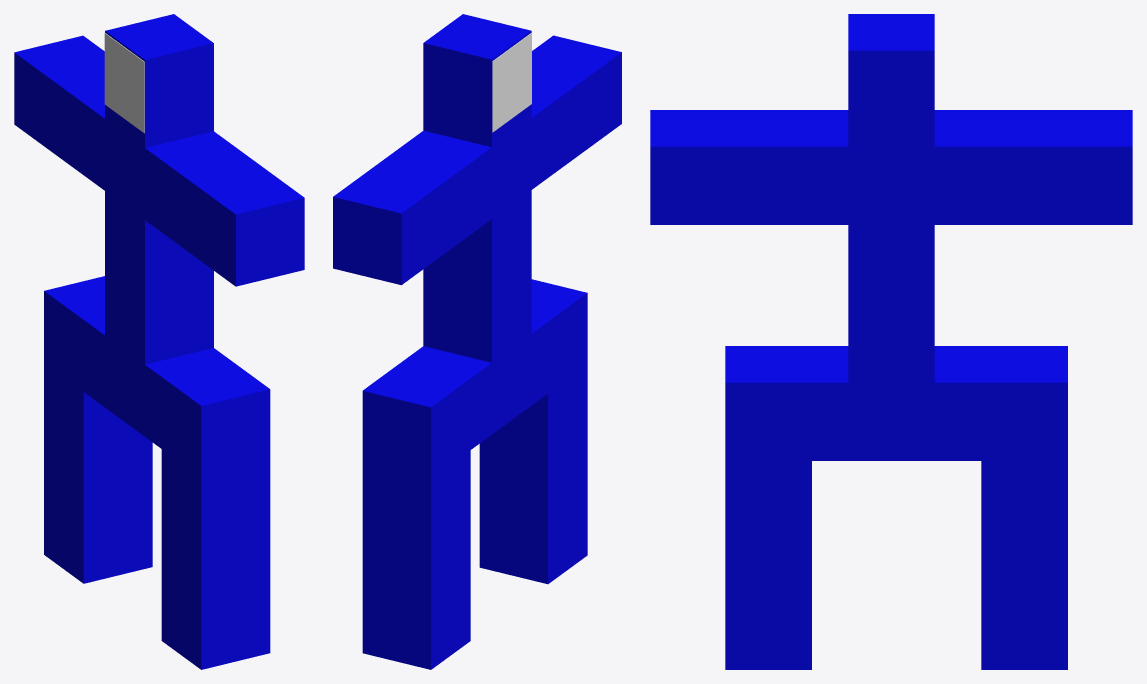
File: blue.dae
3 views of the same model, side by side, from view 1: azimuth 30°, elevation 25°; view 2: azimuth 150°, elevation 25°; view 3: azimuth 270°, elevation 25° (orthographic). The views are drawn at different scales.
Parts seen in each view (by area): view 1: Box4, Box, Box3, Box1, Box2, Box5; view 2: Box4, Box3, Box1, Box, Box2, Box5; view 3: Box4, Box3, Box1, Box, Box2.
Boxes of the visible parts, x1=… form: Box4: x1=14, y1=35, x2=304, y2=286; Box: x1=161, y1=389, x2=270, y2=669; Box3: x1=105, y1=14, x2=213, y2=408; Box1: x1=44, y1=276, x2=152, y2=583; Box2: x1=49, y1=281, x2=269, y2=477; Box5: x1=104, y1=33, x2=144, y2=133; Box4: x1=333, y1=35, x2=621, y2=285; Box3: x1=423, y1=14, x2=531, y2=424; Box1: x1=362, y1=387, x2=470, y2=669; Box: x1=479, y1=279, x2=587, y2=584; Box2: x1=368, y1=280, x2=586, y2=474; Box5: x1=492, y1=33, x2=531, y2=132; Box4: x1=650, y1=110, x2=1132, y2=224; Box3: x1=848, y1=14, x2=934, y2=451; Box1: x1=981, y1=346, x2=1067, y2=669; Box: x1=725, y1=346, x2=811, y2=669; Box2: x1=726, y1=346, x2=1056, y2=460.
Size of the model in its own units: 0.7063 by 5.52 by 3.9.
